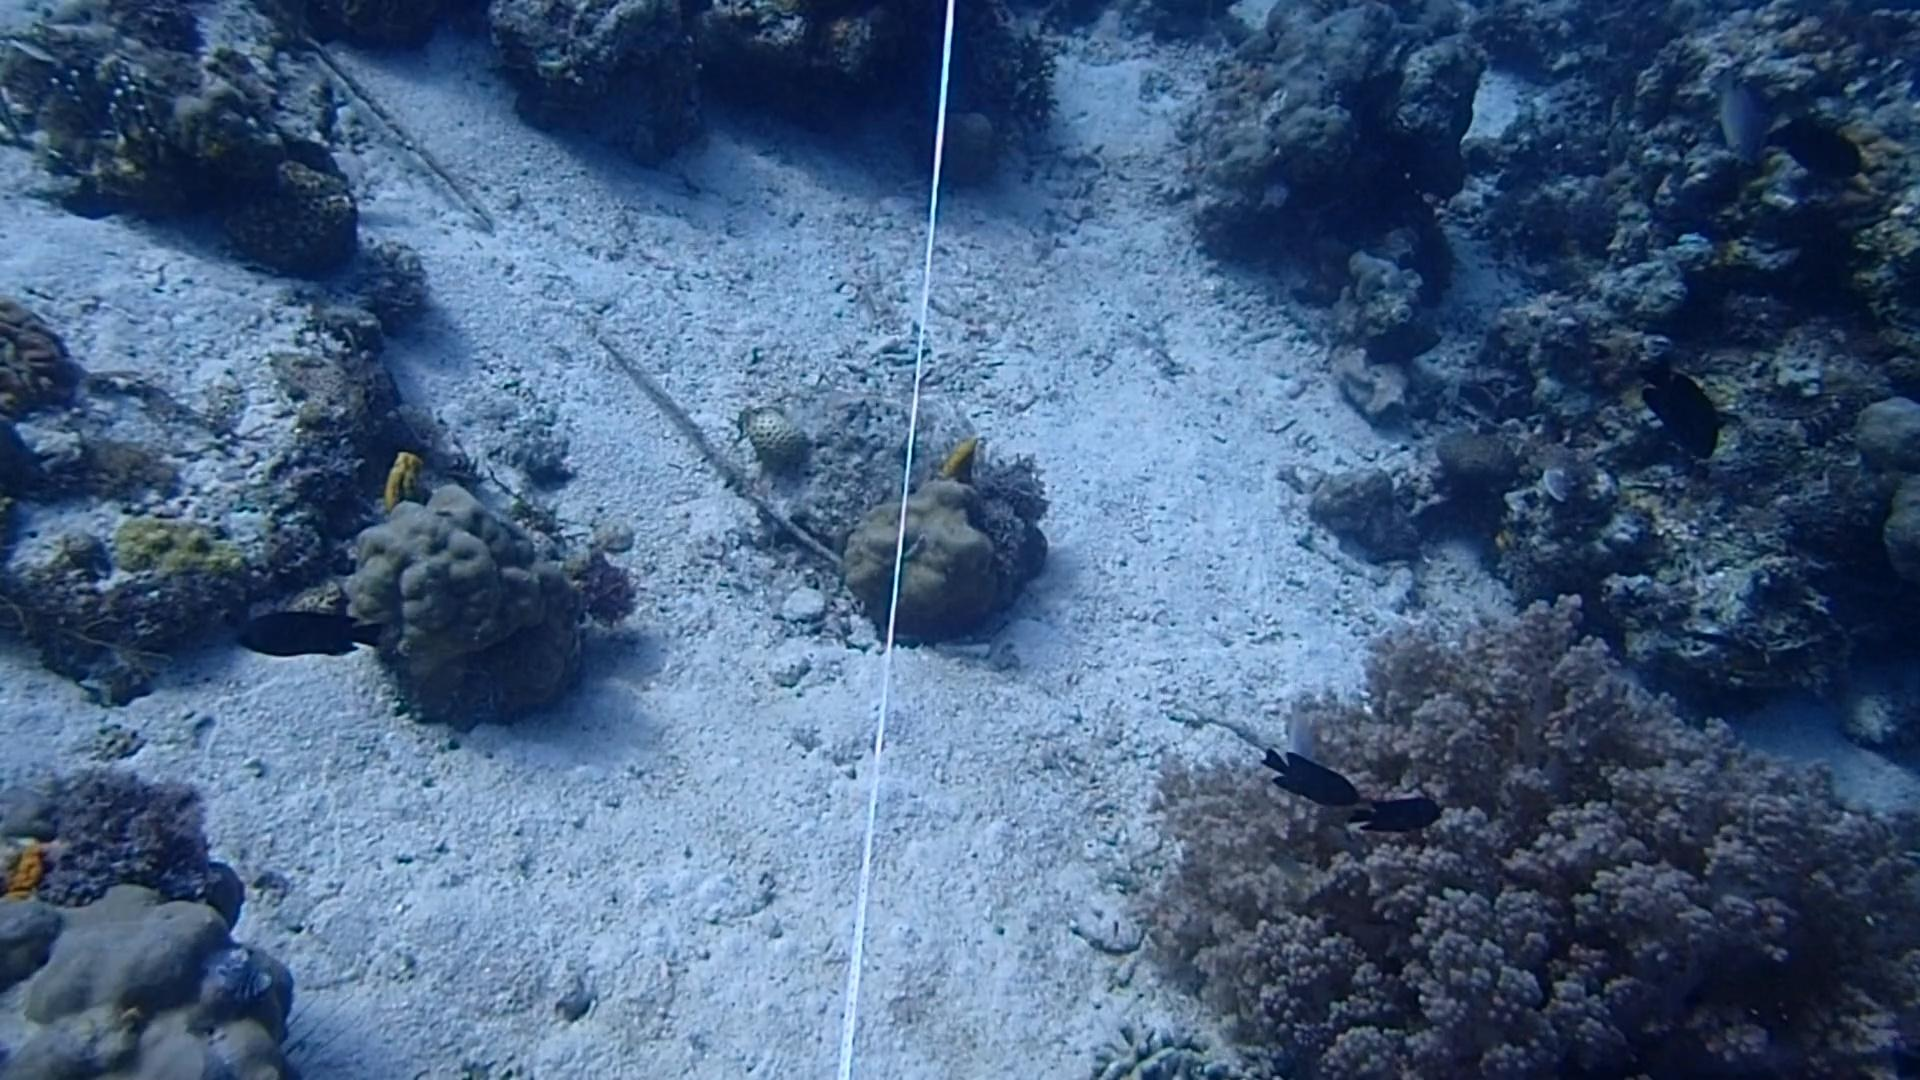Dark Fish: (225, 599, 388, 674), (1249, 738, 1365, 828), (1648, 353, 1729, 465), (1776, 111, 1867, 193), (1341, 793, 1452, 845)
Light Fish: (1692, 62, 1776, 165), (1262, 671, 1337, 785)
